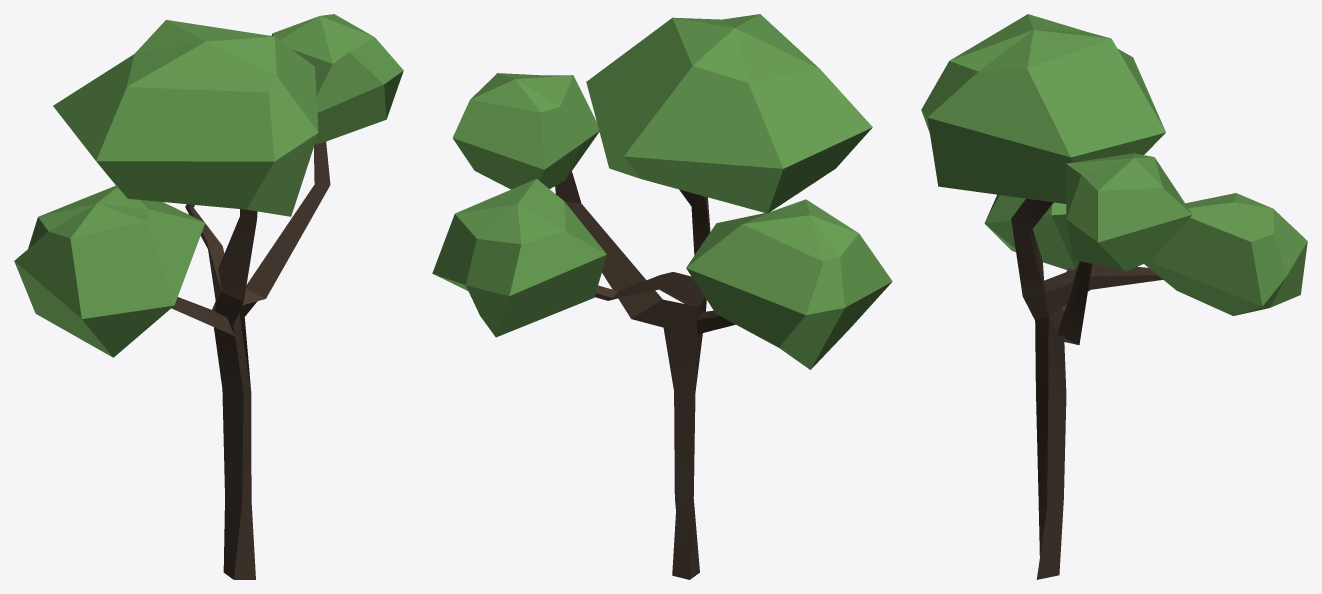
Rendered from Tree2.fbx.
The picture shows the model from 3 angles, left to right: view 1: azimuth 30°, elevation 25°; view 2: azimuth 150°, elevation 25°; view 3: azimuth 270°, elevation 25°; orthographic projection. The views are drawn at different scales.
Parts seen in each view (by area): view 1: pSphere5; view 2: pSphere5; view 3: pSphere5.
Part boxes in pixels (x1,y1,x2,y2): pSphere5: (14,14,403,579); pSphere5: (432,14,892,579); pSphere5: (921,14,1307,579).
Size of the model in its own units: 2173 by 2997 by 1997.
